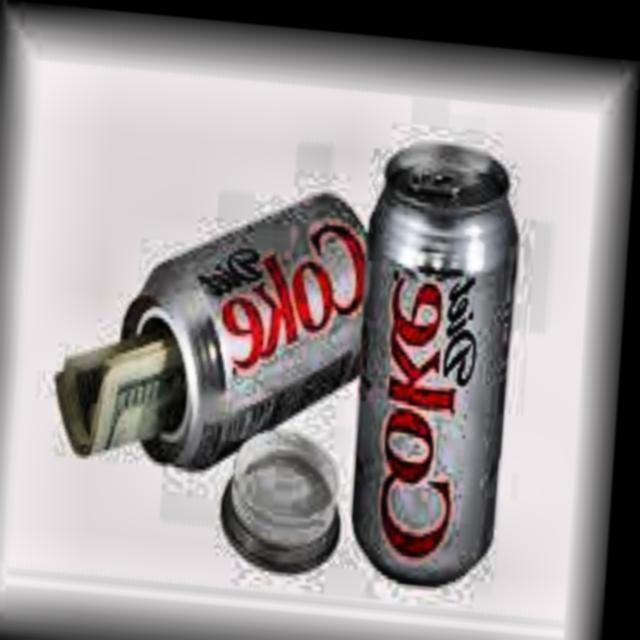can: (353, 138, 526, 582), (128, 164, 368, 464)
